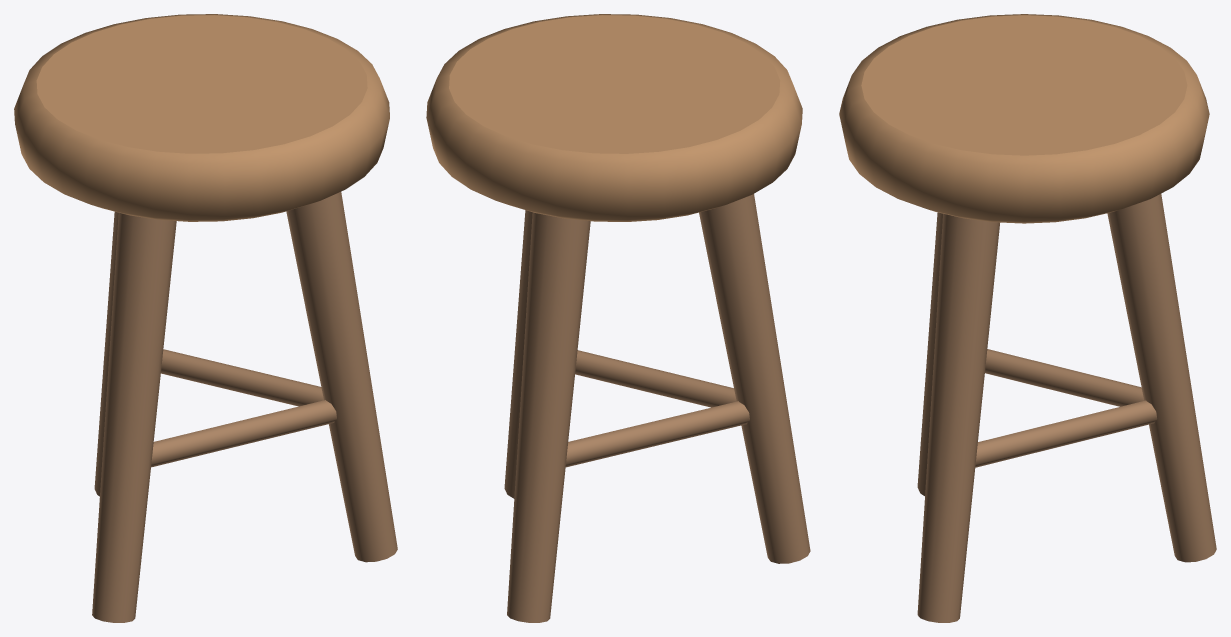
Rendered from chair-stool.glb.
3 renders of one model, left to right at view 1: azimuth 30°, elevation 25°; view 2: azimuth 150°, elevation 25°; view 3: azimuth 270°, elevation 25°, orthographic.
Parts seen in each view (by area): view 1: chair-stool; view 2: chair-stool; view 3: chair-stool.
Boxes of the visible parts, x1,y1,x2,y2 form: chair-stool: (14, 14, 397, 622); chair-stool: (426, 14, 810, 622); chair-stool: (839, 14, 1216, 622).
Bounding box in the file's own units: 0.4 × 0.55 × 0.4.
